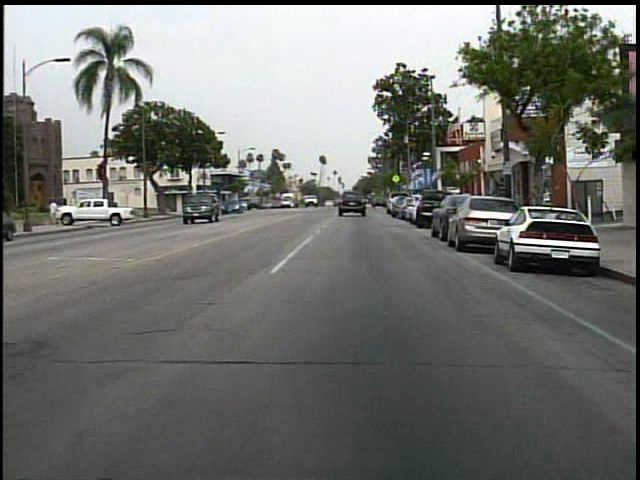person: (347, 188, 369, 219), (49, 198, 64, 227)
